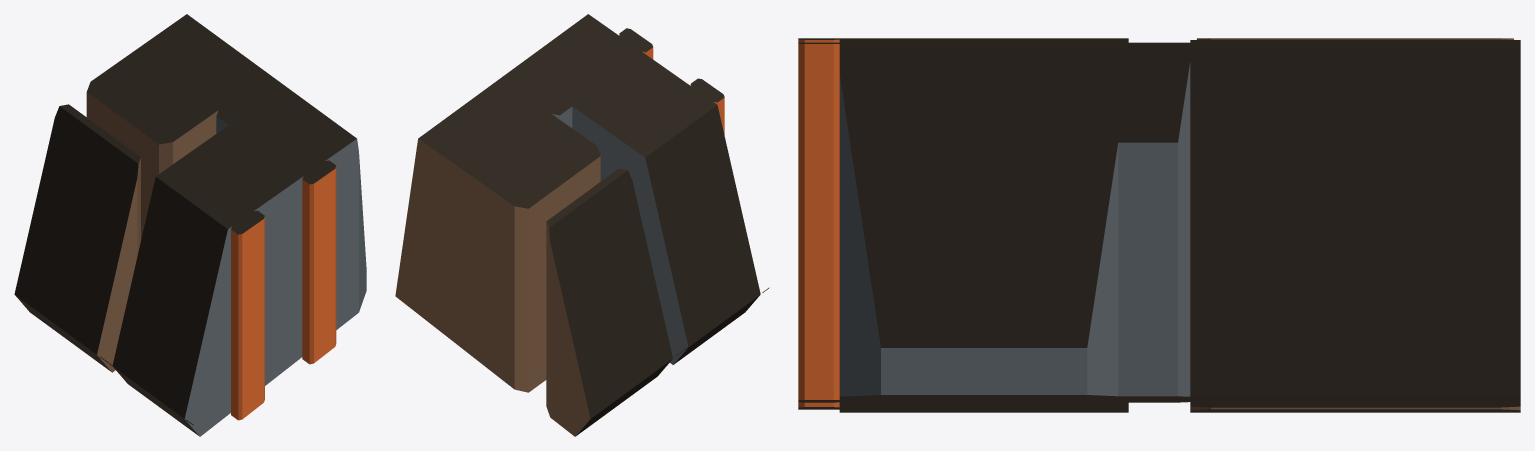
The model's file is SM_DoorShard_03_05.fbx.
The picture shows the model from 3 angles, left to right: view 1: azimuth 30°, elevation 25°; view 2: azimuth 150°, elevation 25°; view 3: azimuth 270°, elevation 25°; orthographic projection. The views are drawn at different scales.
Visible parts, largest first — view 1: SM_DoorShard_03_05; view 2: SM_DoorShard_03_05; view 3: SM_DoorShard_03_05.
Boxes of the visible parts, x1,y1,x2,y2 form: SM_DoorShard_03_05: [14, 14, 366, 436]; SM_DoorShard_03_05: [395, 14, 769, 436]; SM_DoorShard_03_05: [798, 38, 1520, 412].
Size of the model in its own units: 21.86 by 35 by 27.83.
